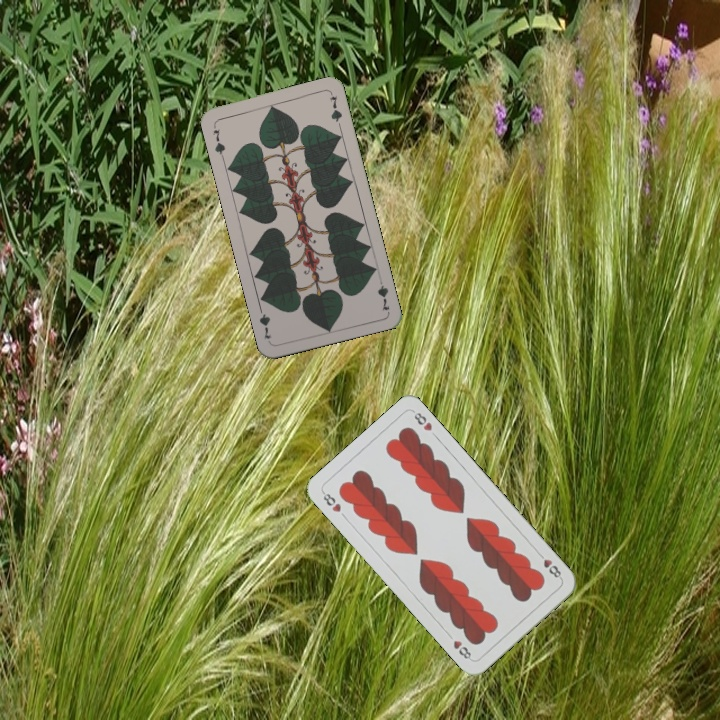G7: (209, 121, 228, 161), (374, 273, 392, 313)
H8: (534, 548, 564, 582), (318, 488, 344, 515)
